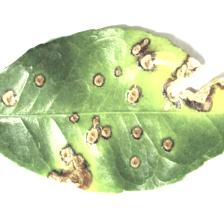canker: (1, 47, 217, 196)
